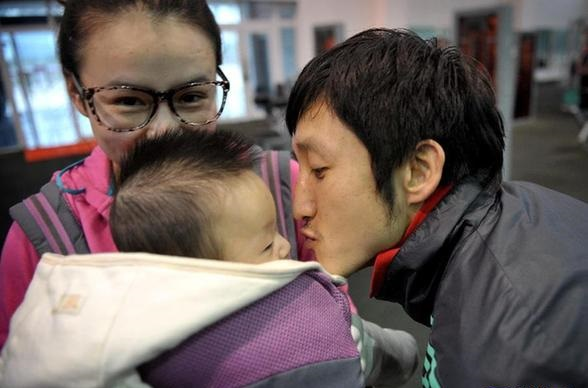face: (86, 29, 225, 176), (291, 98, 391, 277), (235, 173, 292, 284)
